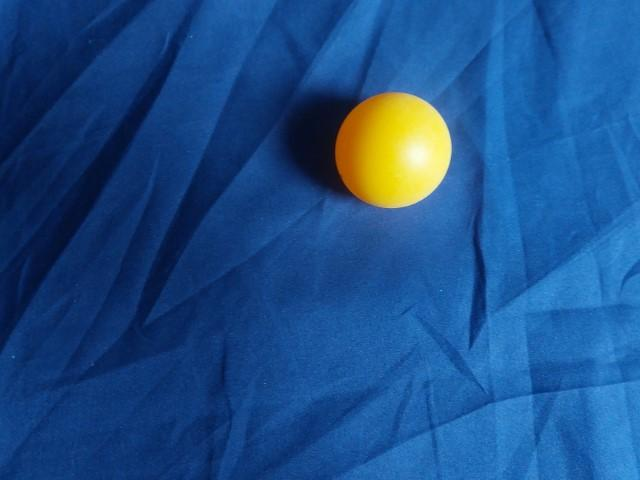oball: (178, 265, 312, 394)
